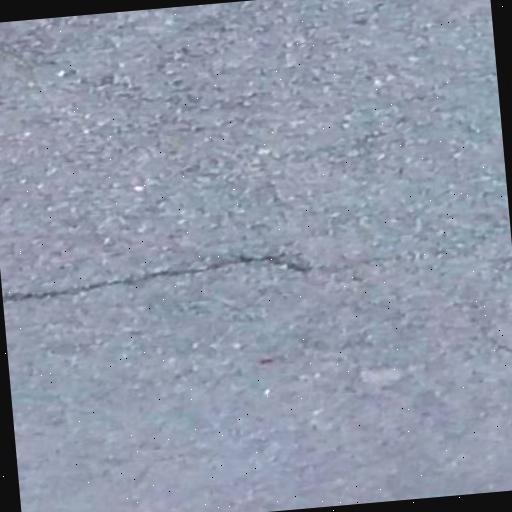spalling: (6, 248, 318, 307)
